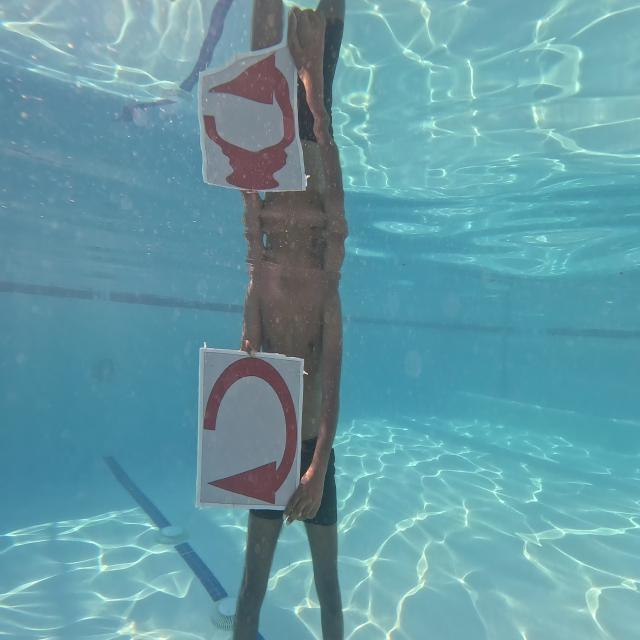red_side: (188, 334, 308, 524)
